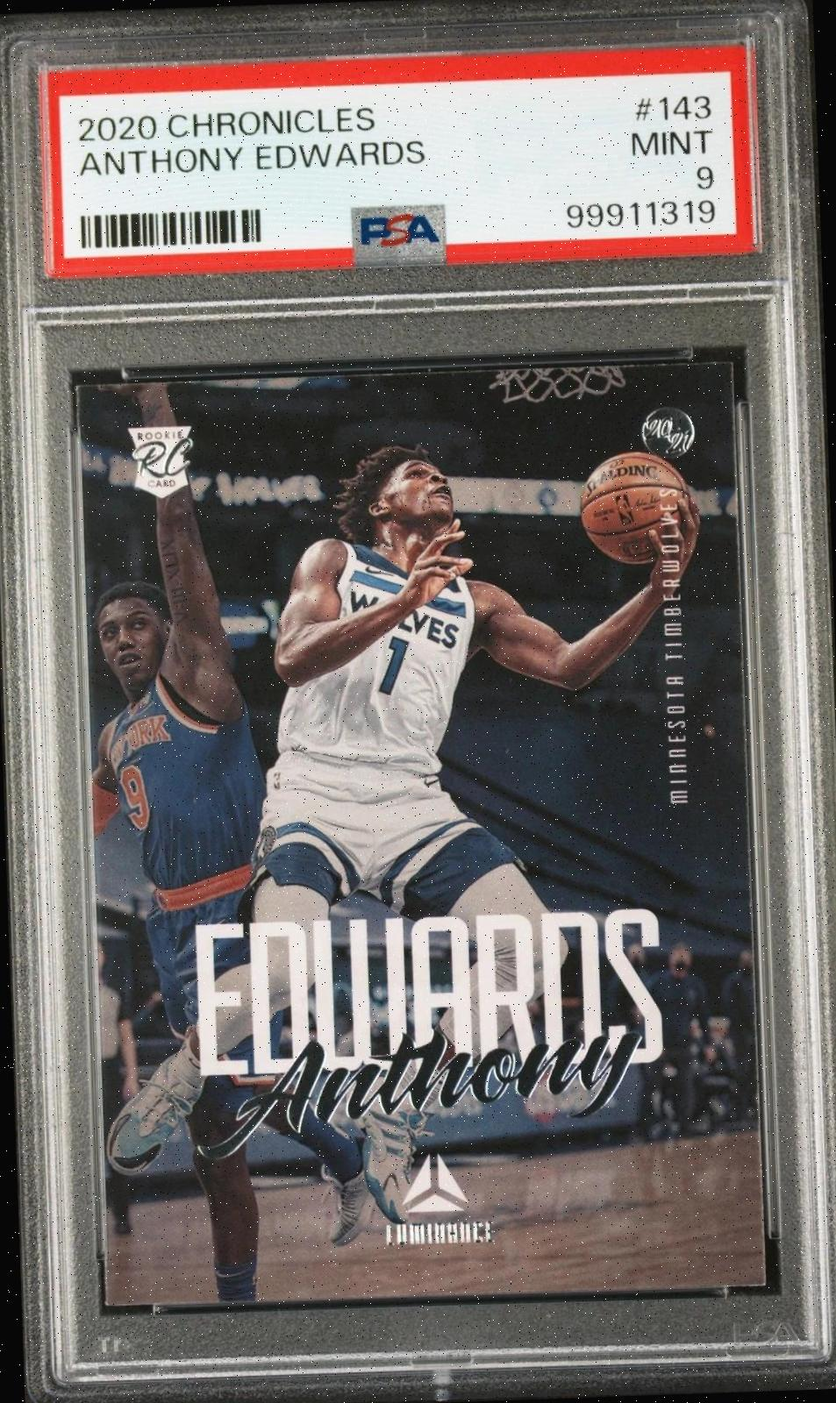card-2UtV: (74, 360, 766, 1306)
